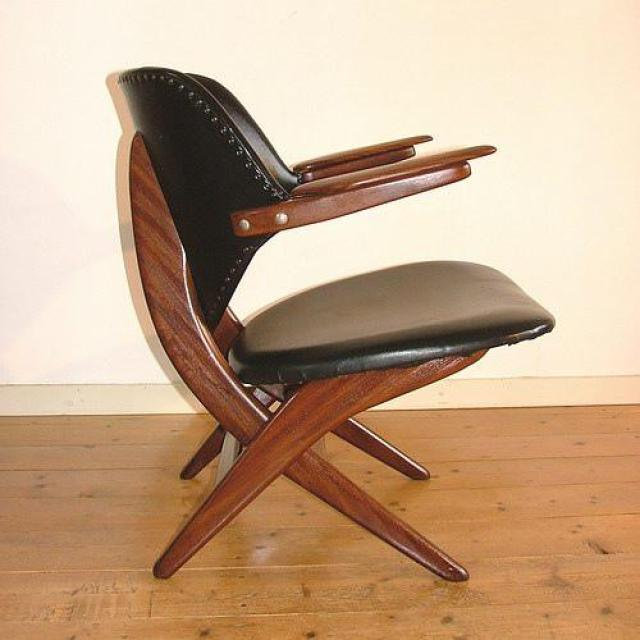chair: (110, 64, 560, 588)
